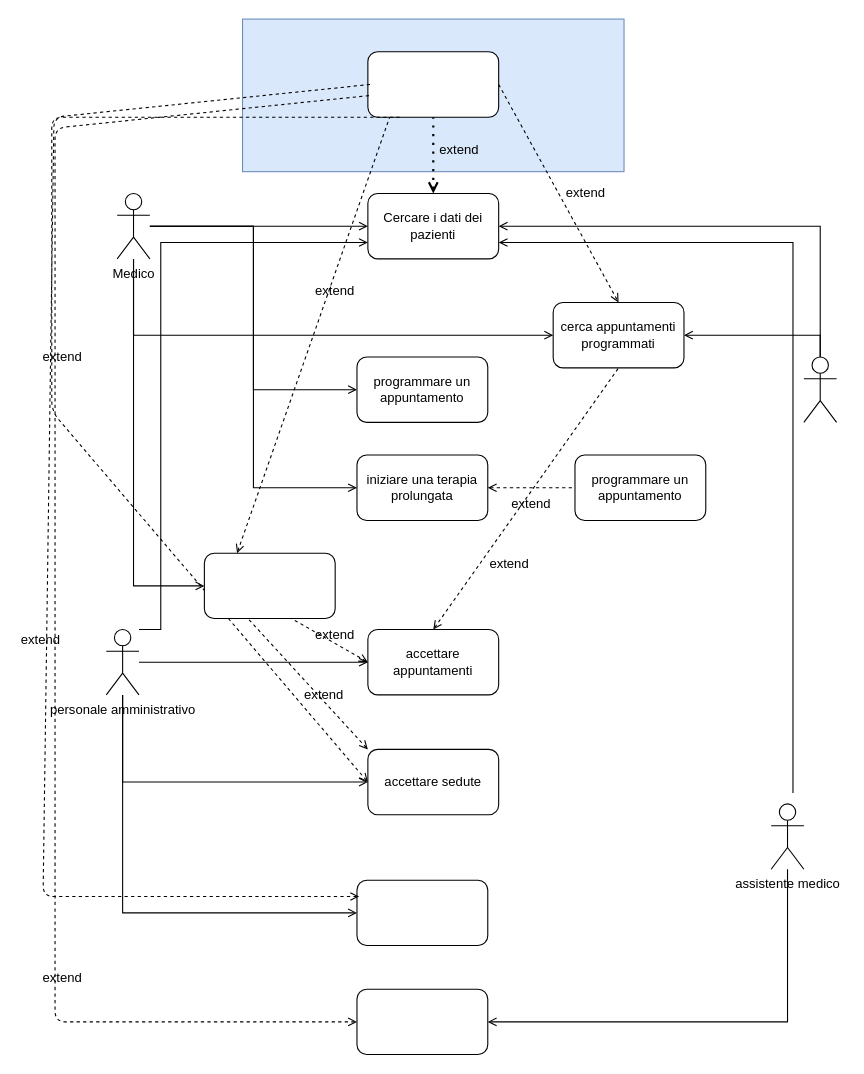
Image size: 864x1074. Some labels were removed from this diagram. The centre of each missing label's shape, as x and y in pixels:
"cercare i dati dei medici" belongs at point (269, 585).
"creare corso di aggiornamento" belongs at point (422, 912).
"login" belongs at point (433, 84).
"Paziente" belongs at point (820, 389).
"registrare ad un corso di aggiornamento" belongs at point (422, 1021).
